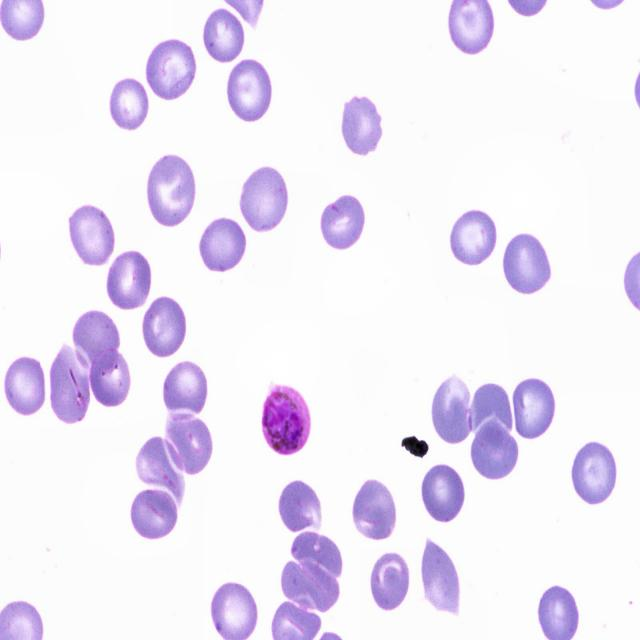red blood cell: (145, 153, 196, 230), (237, 164, 291, 235), (142, 38, 198, 103), (501, 231, 554, 298), (48, 342, 90, 425), (72, 308, 123, 374), (105, 247, 155, 314), (137, 435, 187, 502), (570, 440, 620, 506), (164, 410, 214, 476), (68, 202, 117, 269), (432, 370, 474, 448), (139, 295, 189, 360), (225, 59, 275, 122), (511, 376, 558, 442), (290, 531, 344, 588), (470, 420, 518, 484), (351, 478, 398, 543), (421, 540, 464, 611), (448, 210, 500, 268), (280, 562, 340, 612), (319, 191, 368, 252), (421, 461, 467, 525), (162, 360, 210, 421), (277, 478, 325, 539), (468, 382, 513, 446), (340, 93, 384, 156), (200, 217, 248, 274), (370, 545, 411, 611), (130, 488, 180, 542), (4, 355, 46, 418), (202, 7, 245, 64), (91, 349, 131, 408), (110, 79, 149, 132)
trophozoite: (261, 382, 311, 456)
